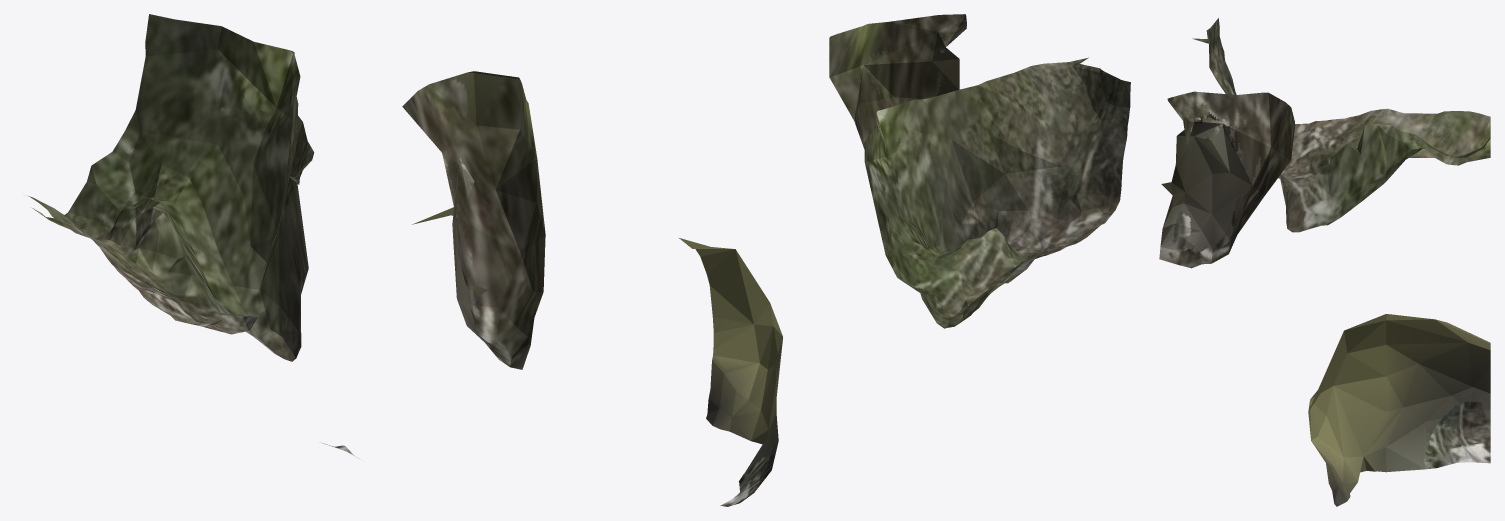
The picture shows the model from 3 angles, left to right: view 1: azimuth 30°, elevation 25°; view 2: azimuth 150°, elevation 25°; view 3: azimuth 270°, elevation 25°; orthographic projection. The views are drawn at different scales.
Bounding box in the file's own units: 2.95 × 2.95 × 2.63.
3 materials, 3 textured.
